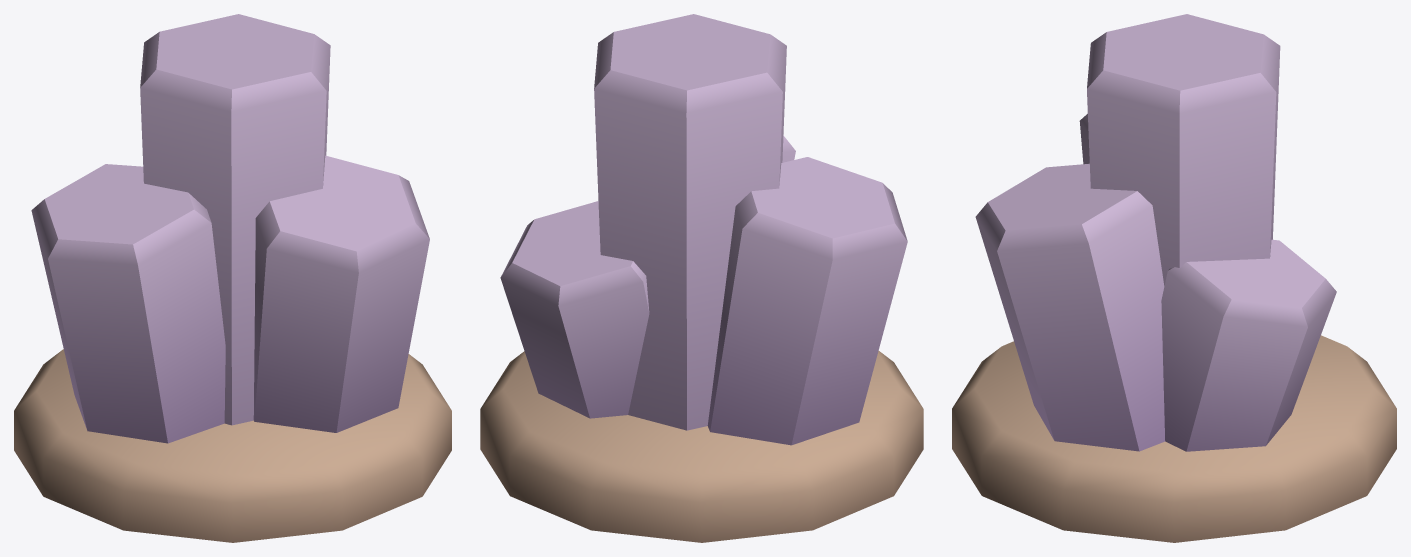
Rendered from crystal-quartz.glb.
3 renders of one model, left to right at view 1: azimuth 30°, elevation 25°; view 2: azimuth 150°, elevation 25°; view 3: azimuth 270°, elevation 25°, orthographic.
Parts seen in each view (by area): view 1: crystal-quartz; view 2: crystal-quartz; view 3: crystal-quartz.
Boxes of the visible parts, x1,y1,x2,y2 form: crystal-quartz: [14, 14, 451, 542]; crystal-quartz: [480, 14, 923, 542]; crystal-quartz: [952, 14, 1396, 542].
Size of the model in its own units: 0.2348 by 0.2301 by 0.232.
